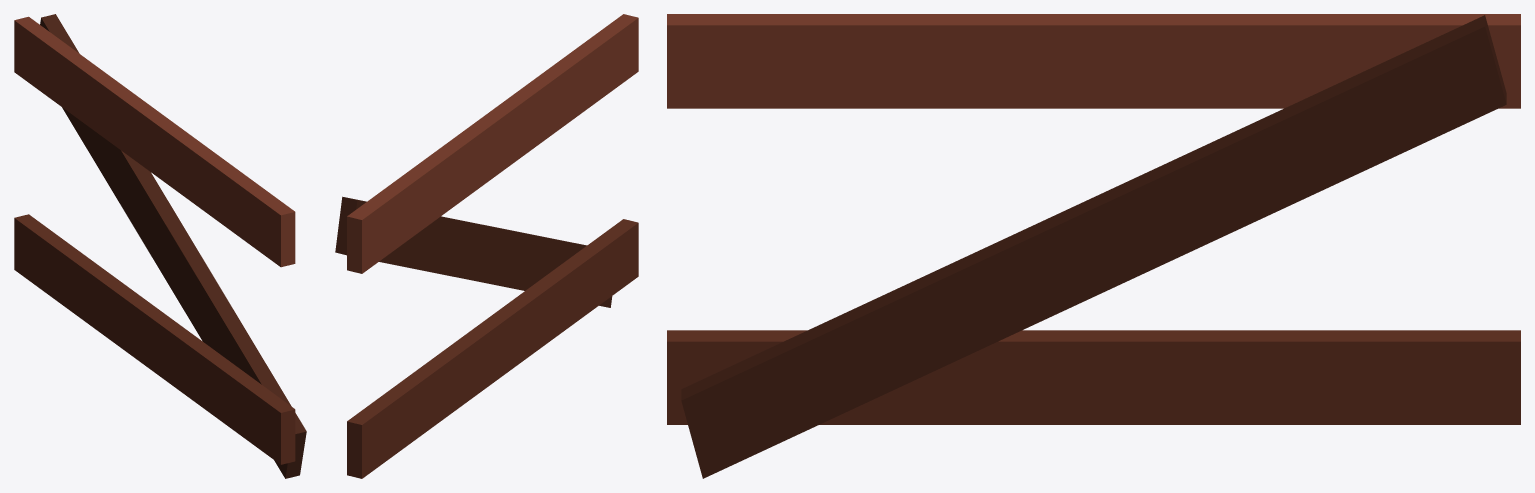
File: SM_Barriers_20.fbx
3 renders of one model, left to right at view 1: azimuth 30°, elevation 25°; view 2: azimuth 150°, elevation 25°; view 3: azimuth 270°, elevation 25°, orthographic. The views are drawn at different scales.
Parts seen in each view (by area): view 1: SM_Barriers_20; view 2: SM_Barriers_20; view 3: SM_Barriers_20.
Boxes of the visible parts, box(x1,y1,x2,y2) form: SM_Barriers_20: box(14, 14, 306, 478); SM_Barriers_20: box(335, 14, 638, 478); SM_Barriers_20: box(667, 14, 1520, 478).
Size of the model in its own units: 6.23 by 55.43 by 94.78.
